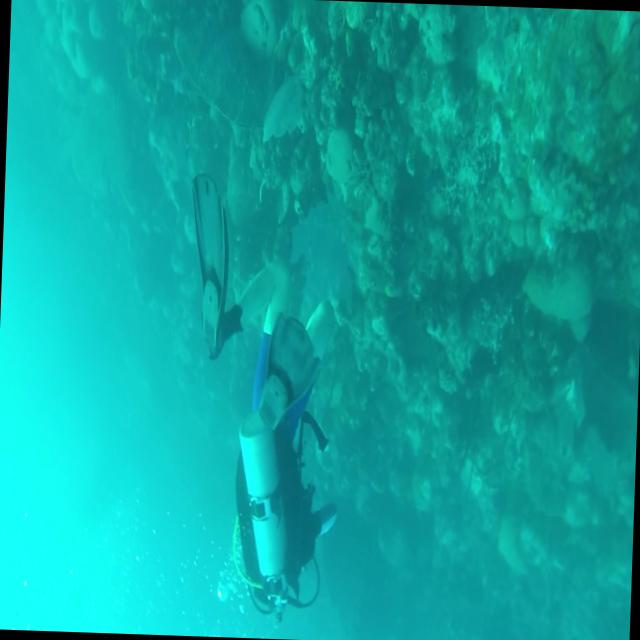human: (226, 262, 346, 624), (185, 172, 250, 363)
